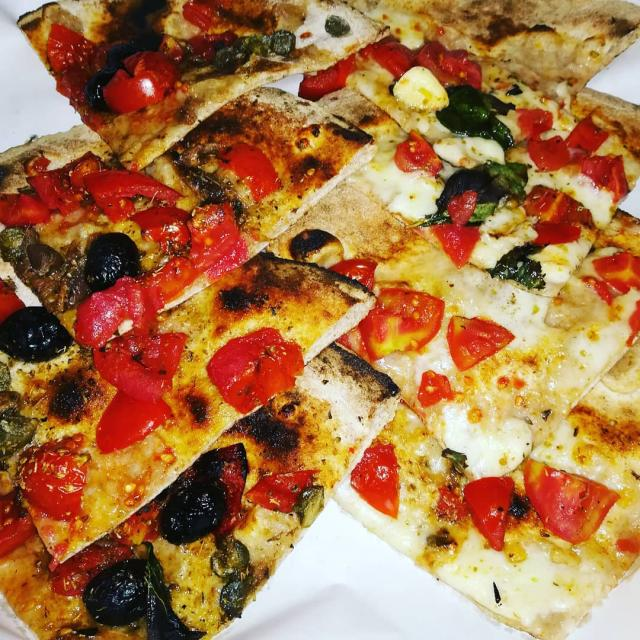black_olives: (79, 550, 155, 620), (160, 479, 230, 547), (84, 227, 150, 296), (3, 301, 63, 360), (444, 163, 488, 209)
pizza: (0, 0, 640, 640)
